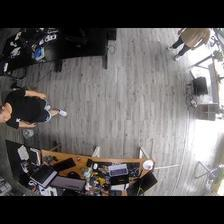normal: (1, 90, 67, 129), (168, 28, 211, 61)
